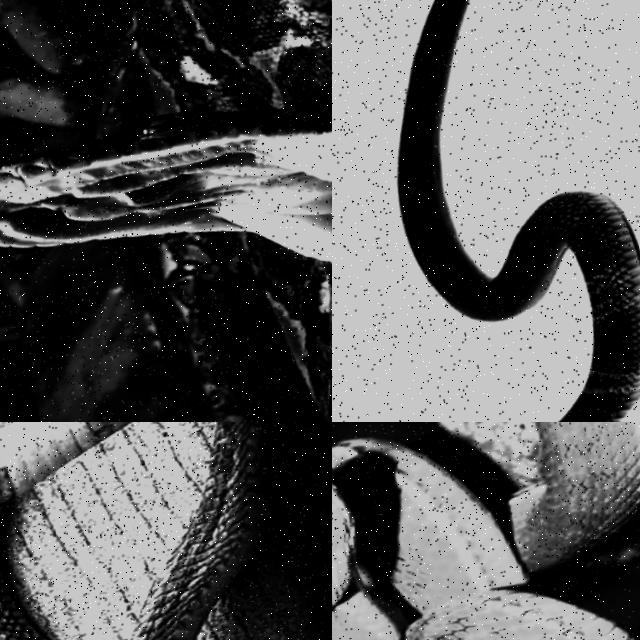Malayopython reticulatus: (0, 0, 331, 421)
Naja kaouthia: (399, 0, 639, 421), (131, 422, 293, 639)
Trimeresurus: (332, 422, 639, 639)
